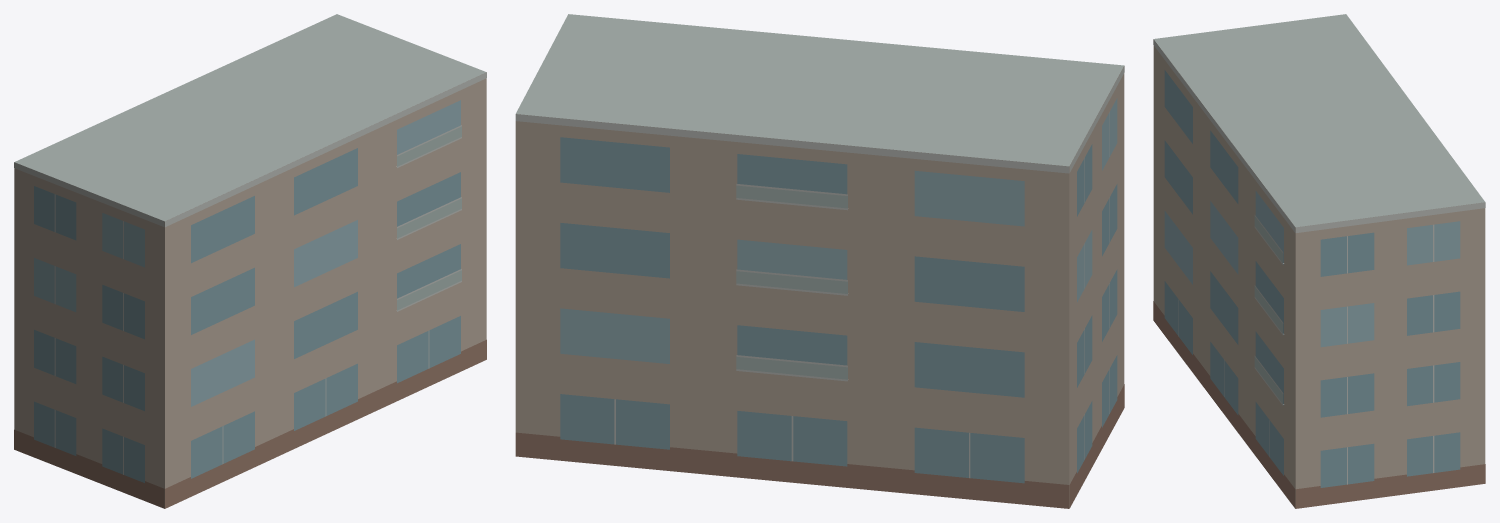
Rendered from survey-upis-32757598.glb.
The picture shows the model from 3 angles, left to right: view 1: azimuth 30°, elevation 25°; view 2: azimuth 150°, elevation 25°; view 3: azimuth 270°, elevation 25°; orthographic projection. The views are drawn at different scales.
Parts seen in each view (by area): view 1: survey-upis-32757598.tmp; view 2: survey-upis-32757598.tmp; view 3: survey-upis-32757598.tmp.
Boxes of the visible parts, x1,y1,x2,y2 form: survey-upis-32757598.tmp: (14, 14, 486, 508); survey-upis-32757598.tmp: (515, 14, 1124, 508); survey-upis-32757598.tmp: (1153, 14, 1485, 508).
Bounding box in the file's own units: 19.03 × 11.7 × 12.52.
